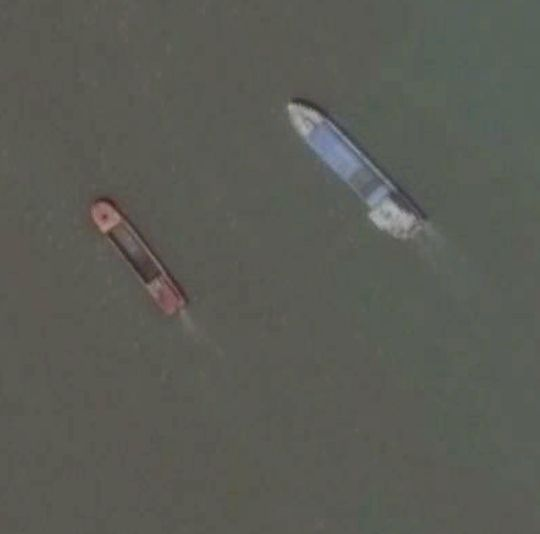boat: (287, 100, 425, 244), (89, 197, 186, 316)
